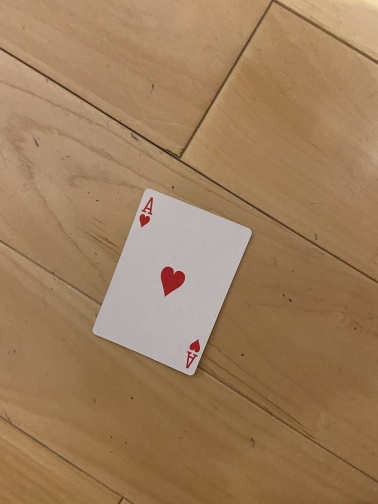ace: (91, 188, 253, 378)
